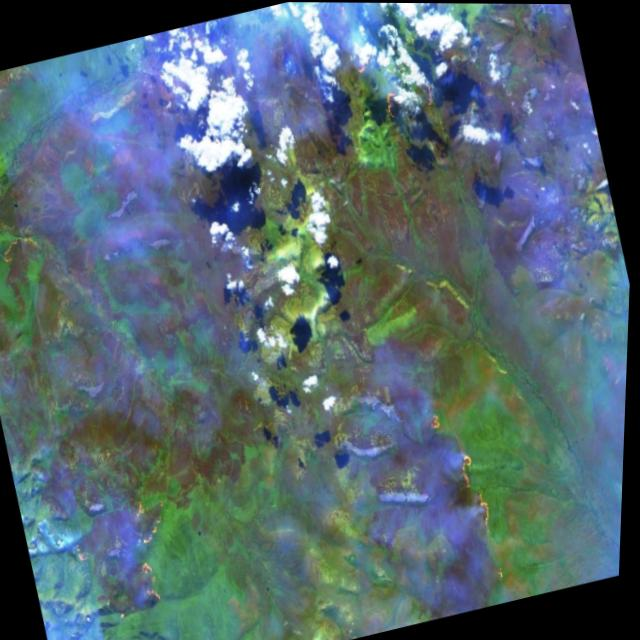fire: (58, 481, 191, 637), (418, 395, 524, 590), (0, 203, 66, 293), (367, 75, 412, 128), (416, 77, 441, 116), (343, 53, 374, 80)
